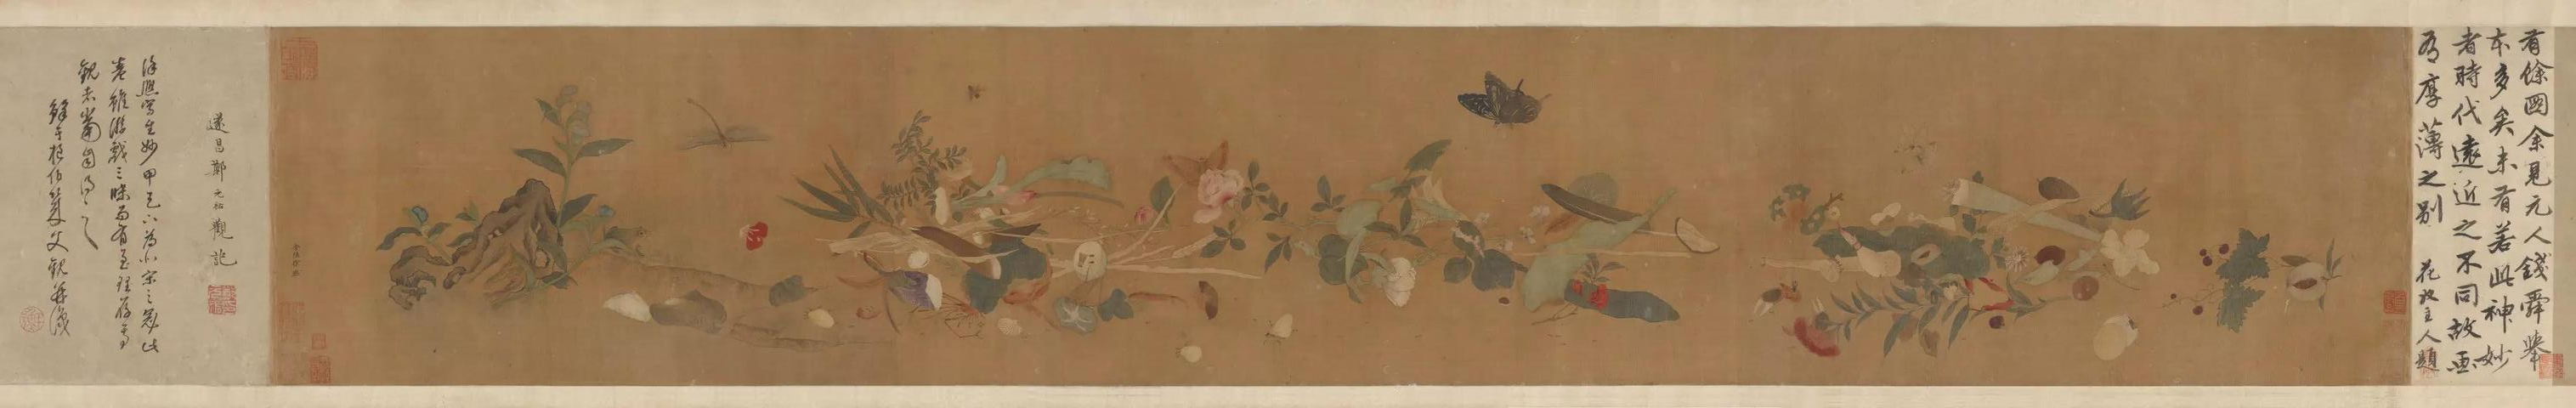butterfly: (1157, 140, 1250, 207), (1456, 69, 1554, 132), (677, 95, 774, 158)
flower: (843, 253, 953, 329), (2284, 248, 2354, 326), (2095, 224, 2165, 281), (1377, 248, 1428, 319), (1784, 313, 1847, 362), (741, 220, 772, 252)
hill: (393, 184, 563, 308)
